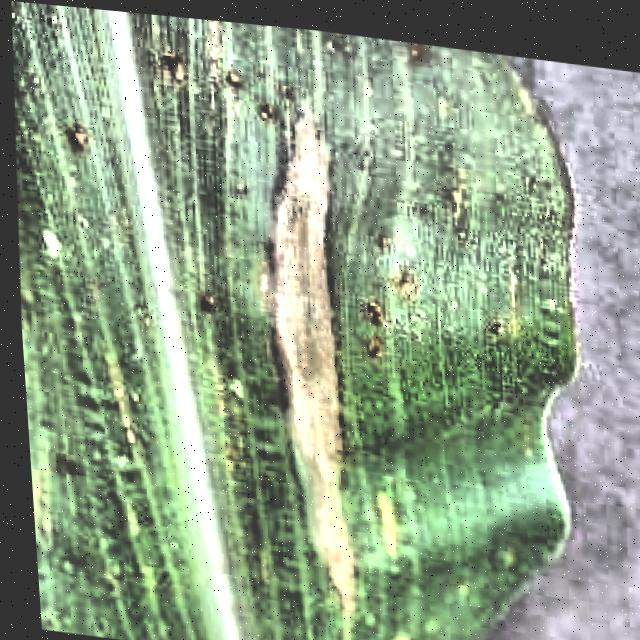blight: (0, 0, 597, 640)
